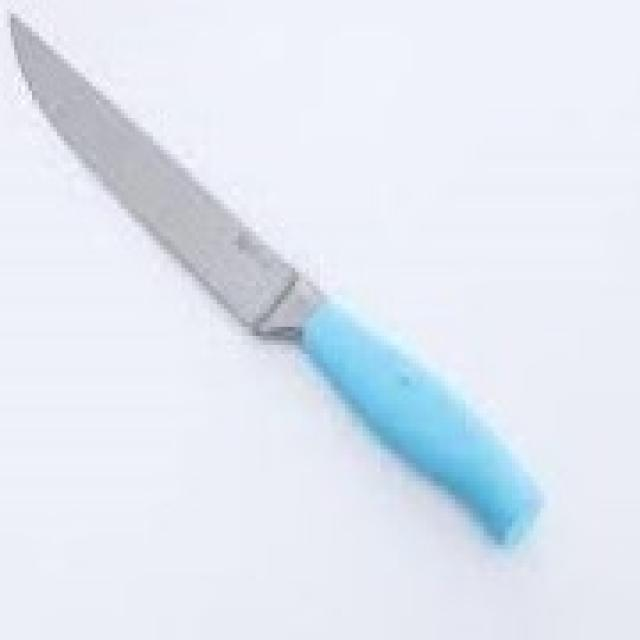knife: (6, 11, 550, 557)
